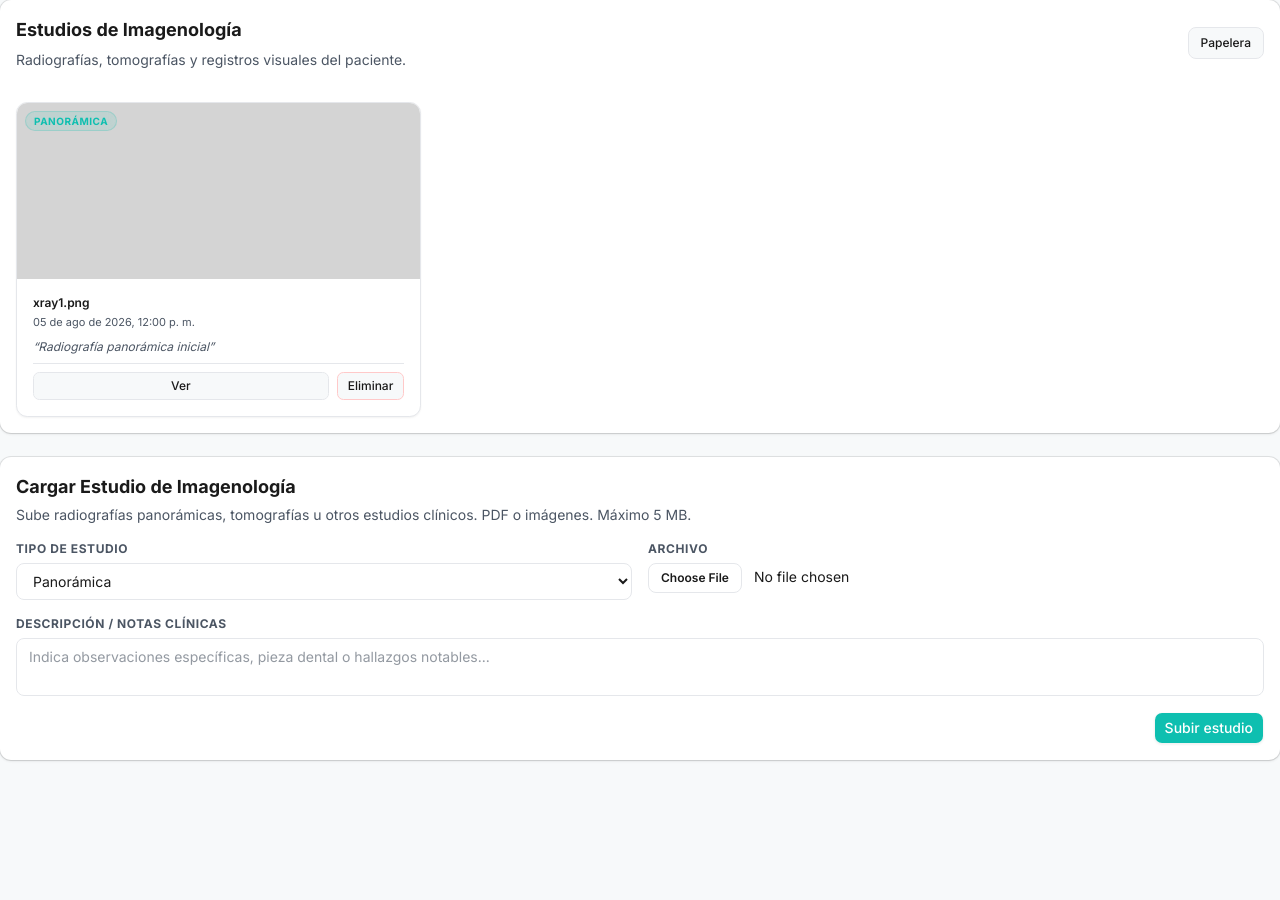
Test: PatientImaging Component › 4. should show delete button if canDelete is true, and clicking it opens the confirmation dialog
Click the button "Eliminar": (370, 386) 337,372 -> 404,400
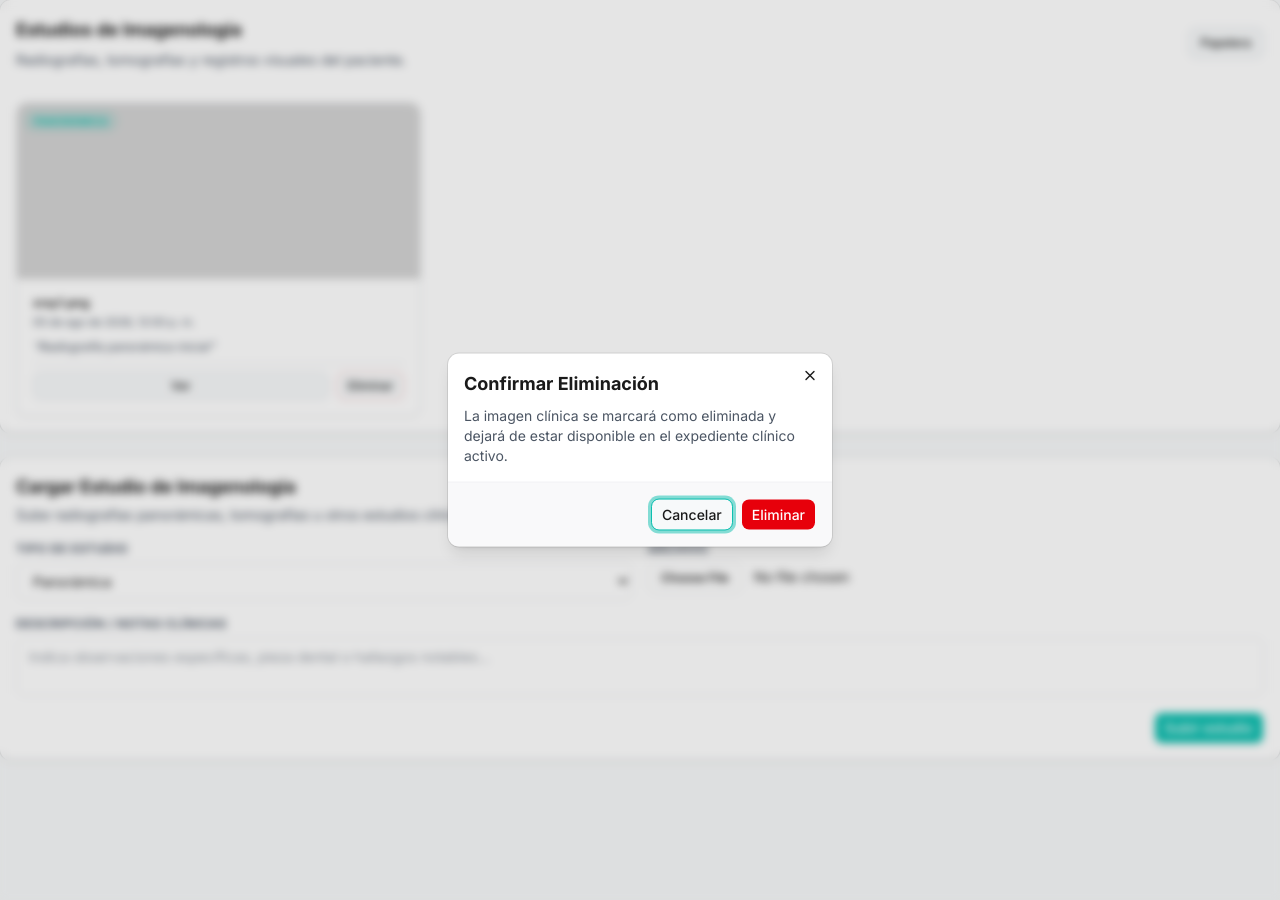
Expected: the heading "Confirmar Eliminación" is shown, 464,372 -> 659,394
Expected: the text "La imagen clínica se marcará como eliminada y dejará de estar disponible en el expediente clínico activo." is shown, 464,406 -> 795,464
